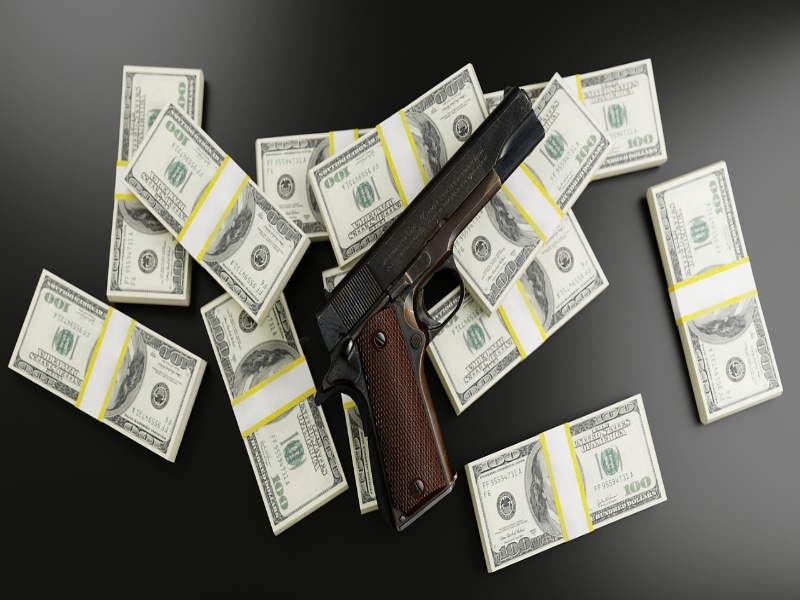cash: (124, 102, 310, 322), (453, 72, 612, 318), (8, 268, 207, 464), (428, 208, 609, 416), (309, 62, 490, 269), (645, 161, 783, 425), (200, 293, 349, 536), (464, 394, 667, 572), (107, 62, 207, 306), (483, 58, 667, 181), (254, 129, 374, 240)
weapon: (314, 87, 547, 527)
